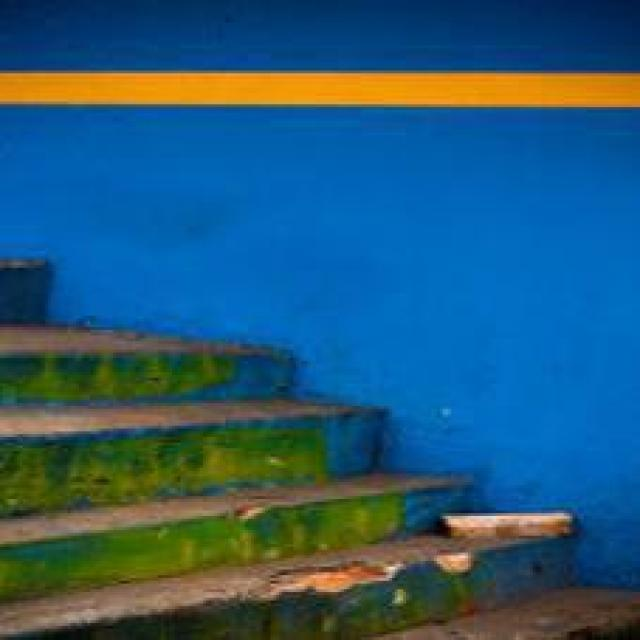upstair: (1, 259, 625, 640)
